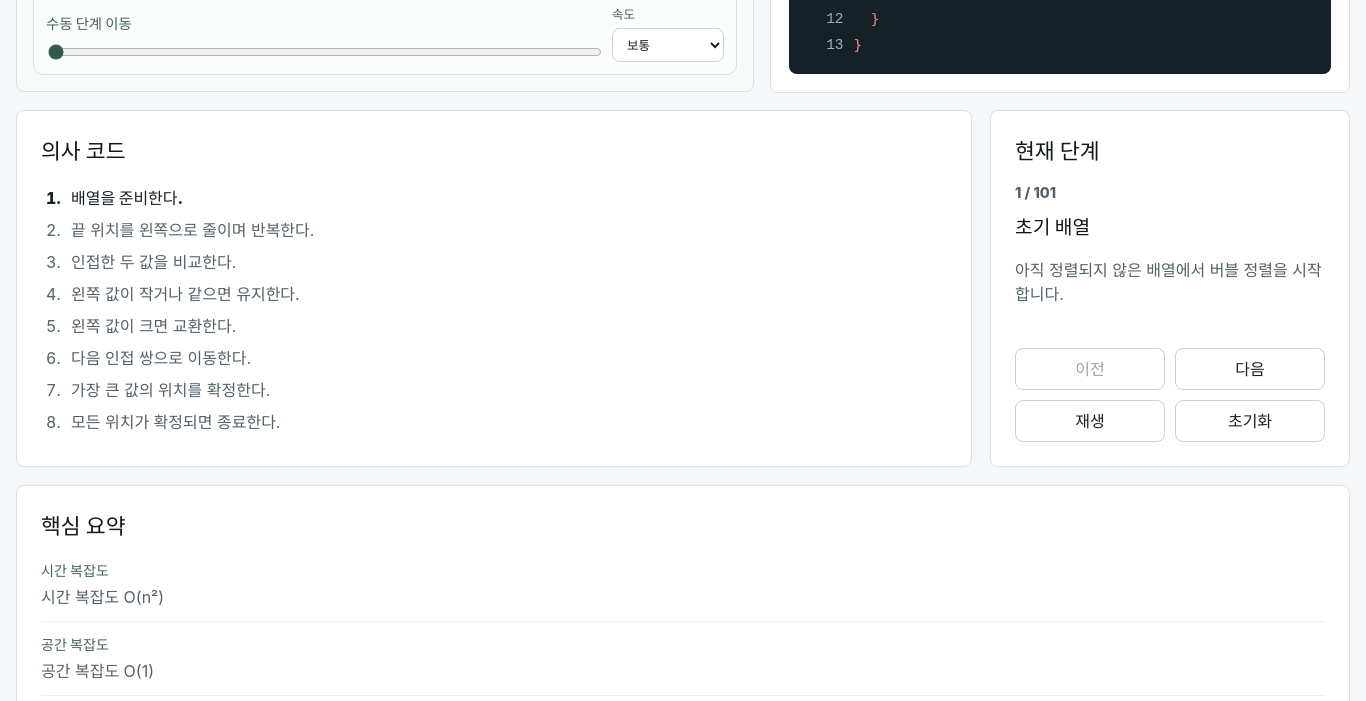
Test: SortingPage › highlights pseudo-code and selected language code for the current step
(page scrolled)
Click the button "다음" below "아직 정렬되지 않은 배열에서 버블 정렬을 시작합니다.".
click(1250, 369)  # box [1175,348,1325,390]
(page scrolled)
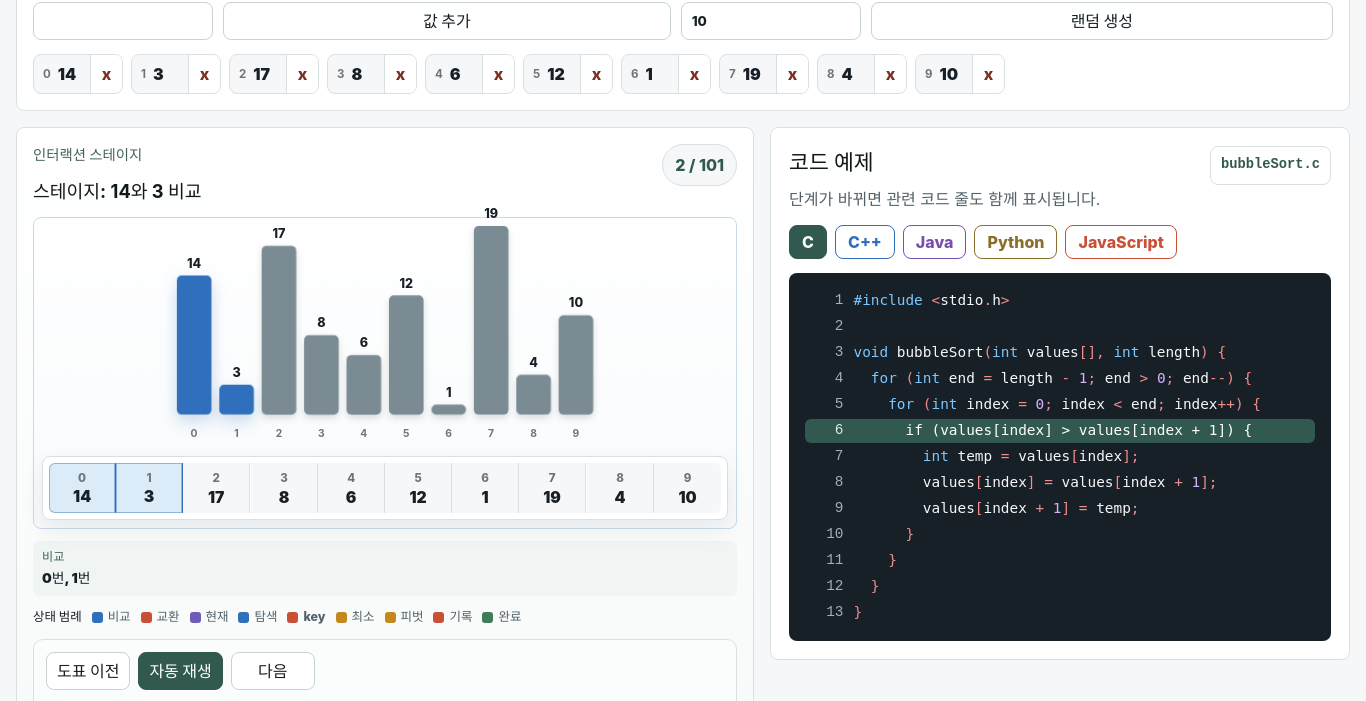
Expected: the list item with aria-label "현재 코드 6" shows "if (values[index] > values[index + 1])", [805,419,1315,443]
Click the tab "Python".
click(1016, 242)  # box [974,225,1058,259]
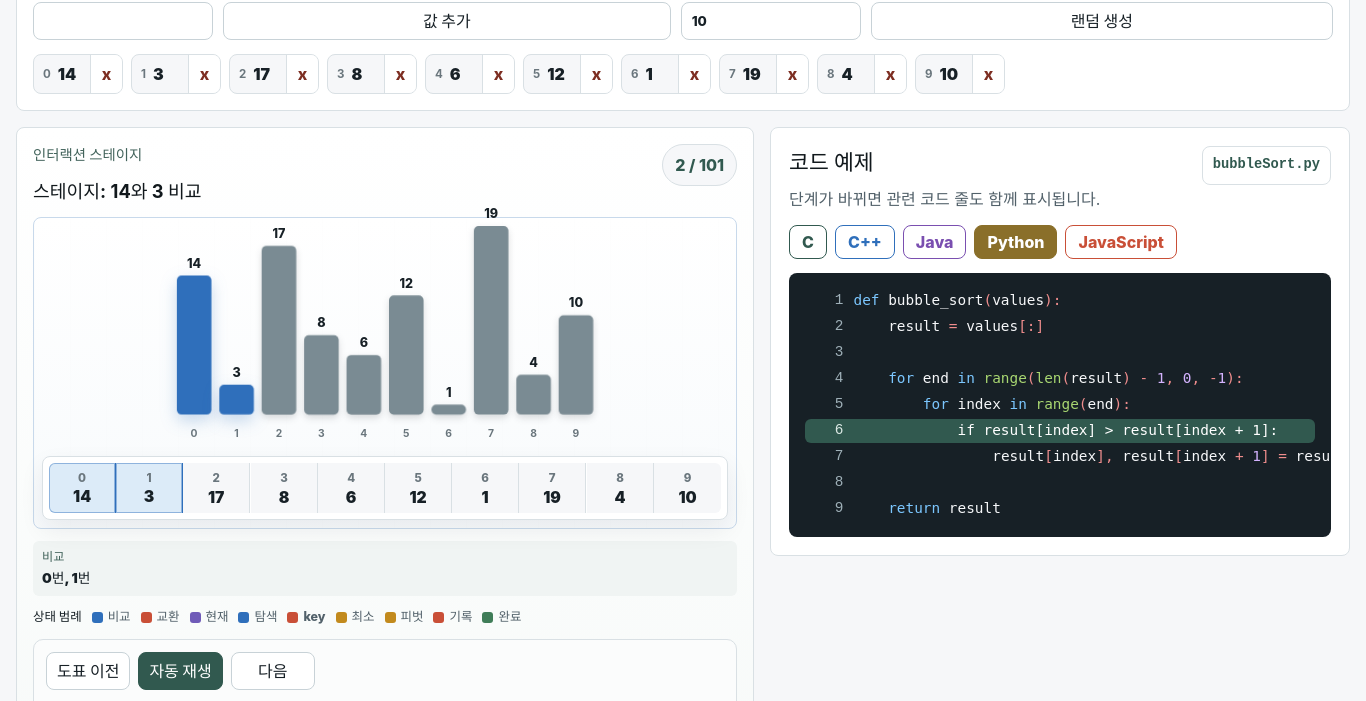
Result: the list item with aria-label "현재 코드 6" shows "if result[index] > result[index + 1]" at [805,419,1315,443]
